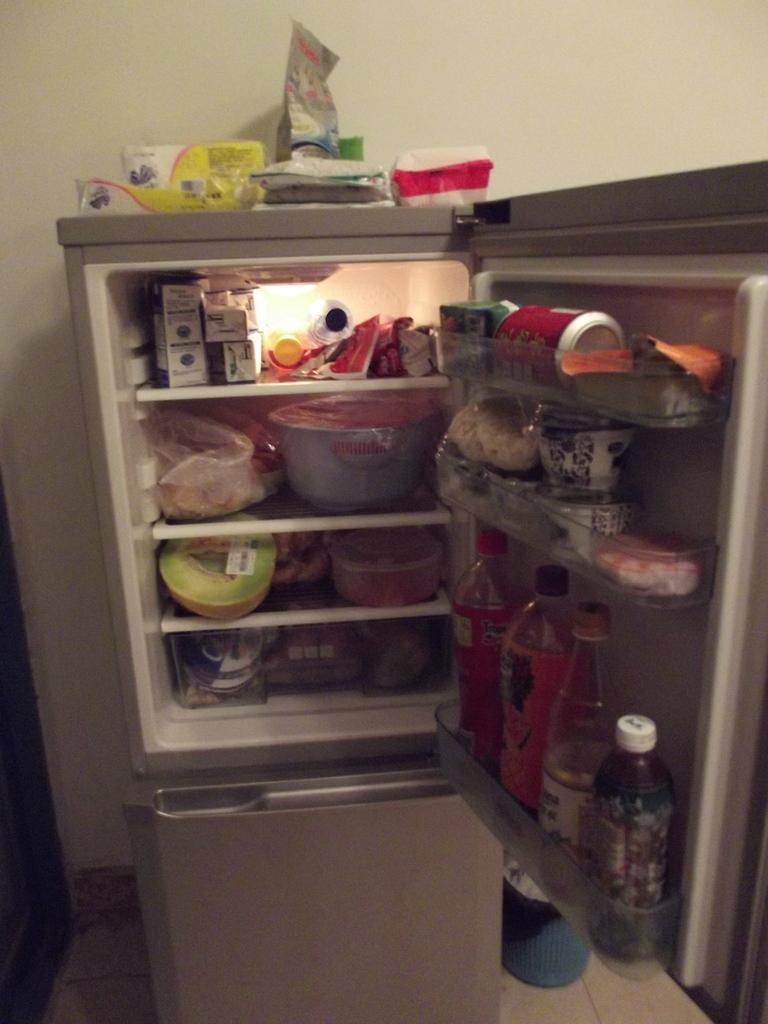handle: (148, 774, 265, 830)
